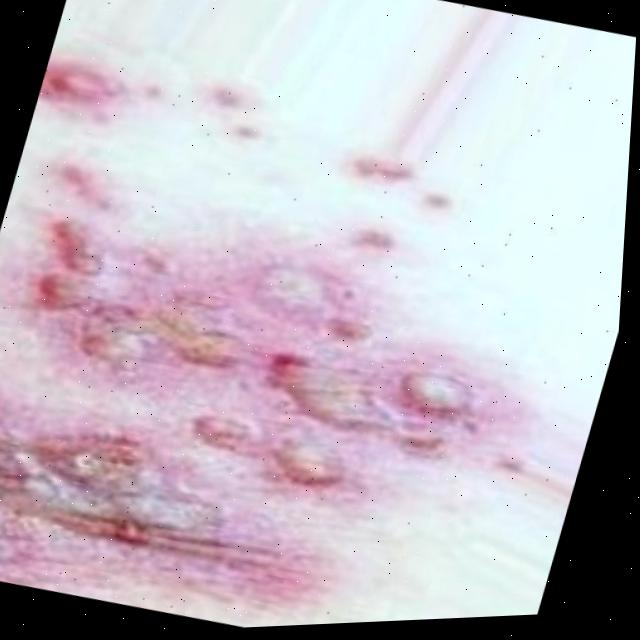Shingles: (0, 185, 540, 640), (343, 149, 461, 266), (47, 158, 122, 213), (48, 65, 119, 114), (208, 76, 258, 120)
